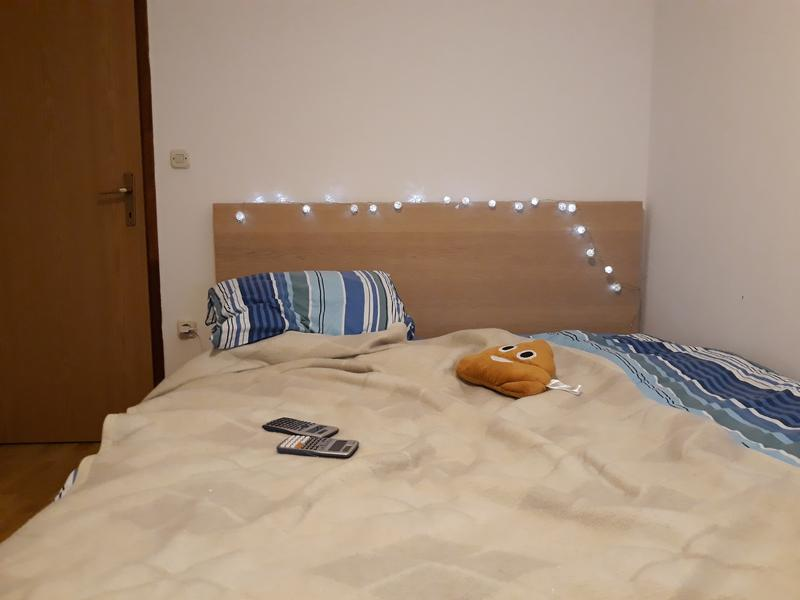CASIO_fx_991ES: (258, 406, 341, 438)
CASIO_fx_991ES_PLUS: (273, 434, 365, 461)
